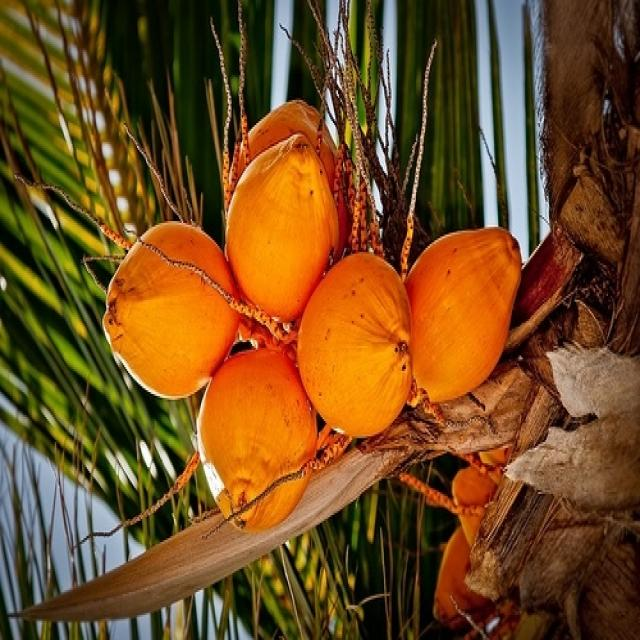coconut: (105, 225, 242, 398), (198, 350, 320, 533), (226, 132, 342, 322), (298, 255, 414, 436), (407, 231, 523, 405)
